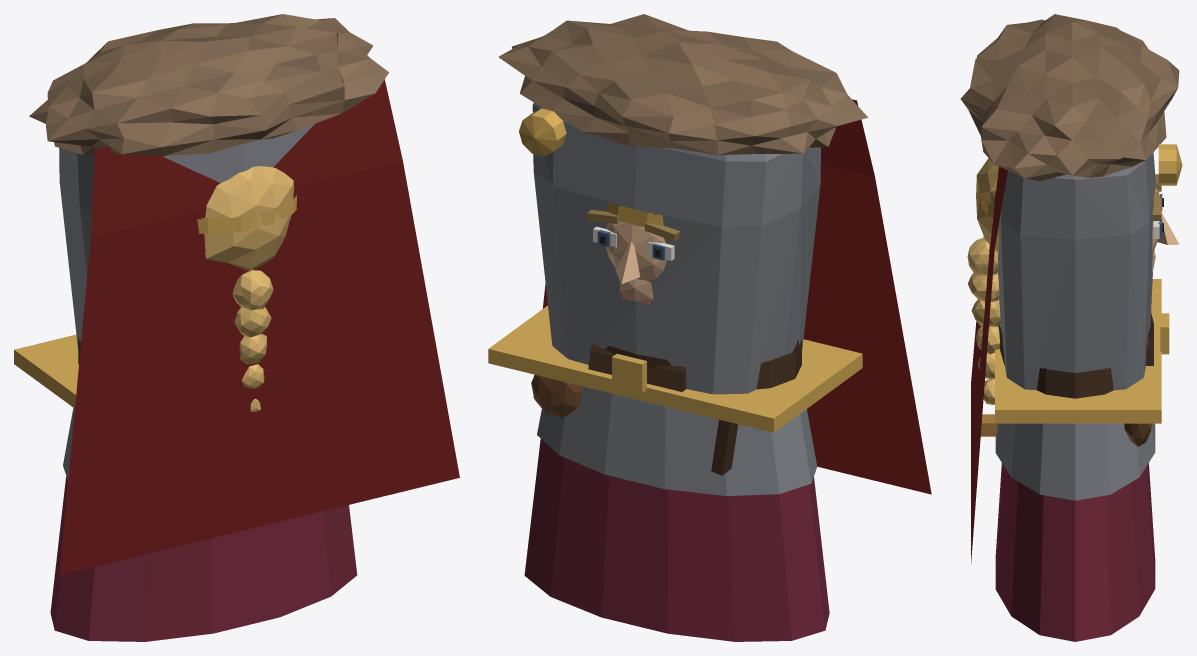
Rendered from Settler_Woman_5.glb.
3 views of the same model, side by side, from view 1: azimuth 30°, elevation 25°; view 2: azimuth 150°, elevation 25°; view 3: azimuth 270°, elevation 25° (orthographic). The views are drawn at different scales.
Visible parts, largest first — view 1: Body, Head; view 2: Body, Head, Leg; view 3: Body, Head.
Boxes of the visible parts, x1,y1,x2,y2 form: Body: [14, 14, 459, 641]; Head: [197, 166, 296, 411]; Body: [488, 14, 931, 641]; Head: [587, 202, 679, 304]; Leg: [588, 344, 686, 391]; Body: [960, 14, 1182, 641]; Head: [967, 158, 1179, 436].
Size of the model in its own units: 2.9 by 3.83 by 1.49.
1 material, 1 textured.
